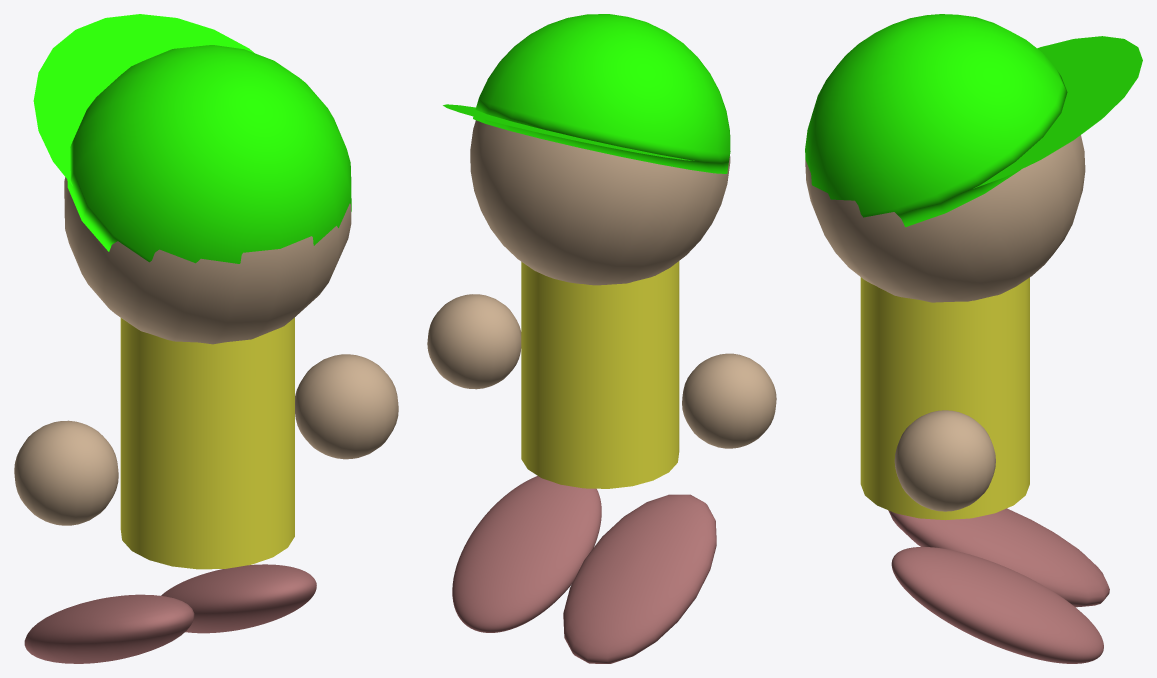
File: Player2Janp.fbx
3 views of the same model, side by side, from view 1: azimuth 30°, elevation 25°; view 2: azimuth 150°, elevation 25°; view 3: azimuth 270°, elevation 25° (orthographic). The views are drawn at different scales.
Visible parts, largest first — view 1: pSphere7, pCylinder1, pSphere1, pDisc1, pSphere8, pSphere2, pSphere3, pSphere6; view 2: pCylinder1, pSphere1, pSphere7, pSphere3, pSphere6, pSphere2, pSphere8, pDisc1; view 3: pSphere7, pCylinder1, pSphere1, pSphere6, pSphere3, pSphere2, pDisc1.
Boxes of the visible parts, x1,y1,x2,y2 form: pSphere7: (67, 45, 351, 263); pCylinder1: (120, 317, 294, 569); pSphere1: (64, 177, 351, 344); pDisc1: (33, 14, 254, 185); pSphere8: (14, 420, 118, 525); pSphere2: (295, 354, 398, 459); pSphere3: (24, 594, 194, 663); pSphere6: (161, 564, 316, 633); pCylinder1: (521, 261, 679, 488); pSphere1: (470, 120, 730, 285); pSphere7: (473, 14, 730, 173); pSphere3: (563, 494, 716, 663); pSphere6: (452, 476, 601, 632); pSphere2: (427, 294, 521, 389); pSphere8: (682, 353, 776, 448); pDisc1: (443, 104, 694, 160); pSphere7: (805, 14, 1067, 227); pCylinder1: (860, 277, 1029, 520); pSphere1: (805, 135, 1085, 302); pSphere6: (891, 547, 1103, 663); pSphere3: (888, 508, 1109, 607); pSphere2: (894, 410, 995, 511); pDisc1: (973, 36, 1142, 188).
Bounding box in the file's own units: 0.7075 × 1.14 × 0.5777.
